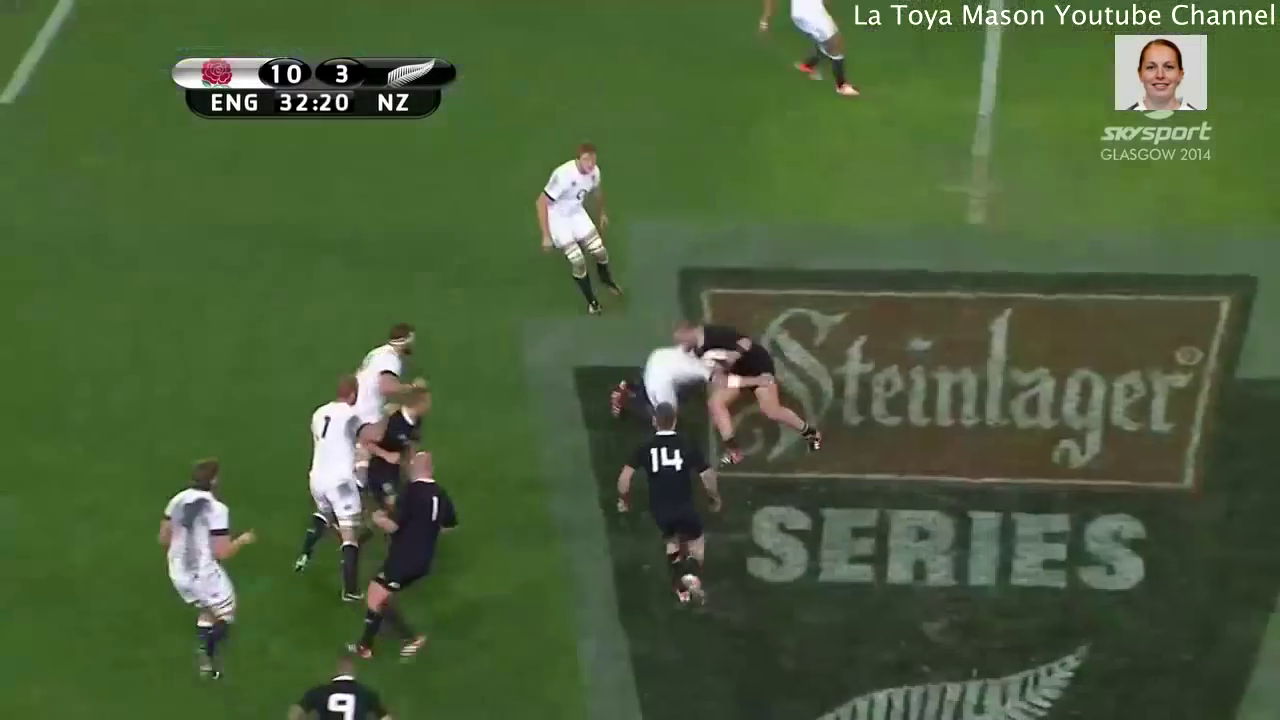player: (140, 455, 258, 691), (604, 399, 726, 622), (680, 311, 844, 461), (351, 449, 462, 667), (528, 132, 636, 324), (291, 369, 367, 597), (751, 1, 874, 102), (577, 340, 714, 429), (277, 646, 408, 720), (351, 310, 430, 415), (374, 379, 445, 480)
